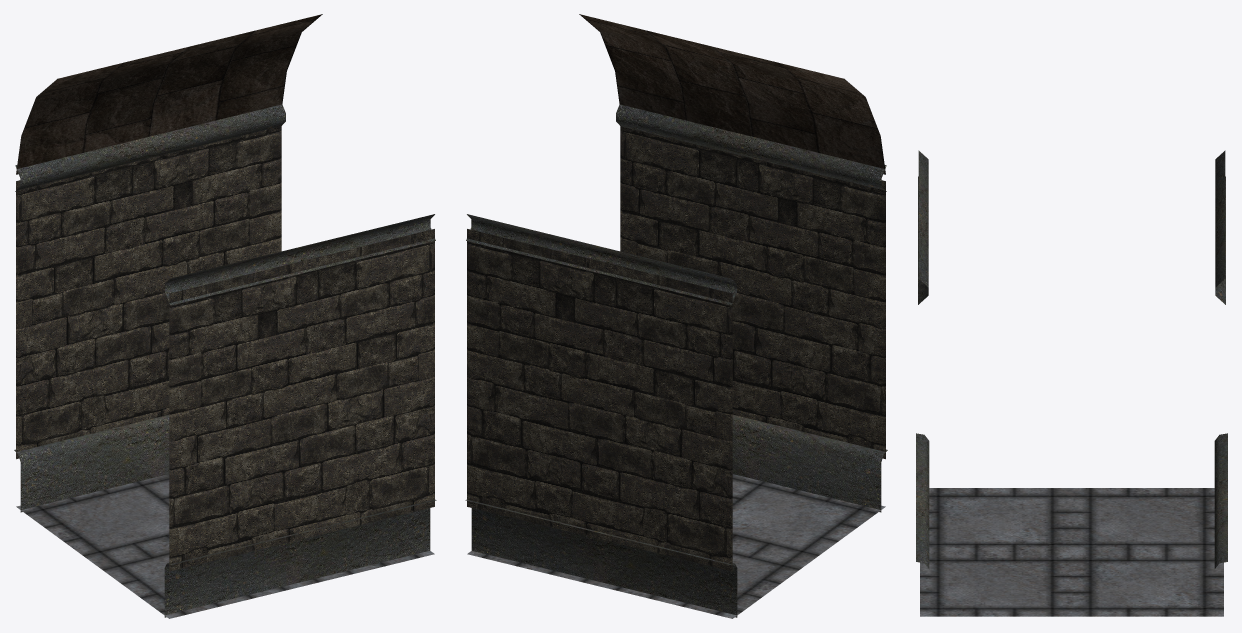
File: HallWay.fbx
The picture shows the model from 3 angles, left to right: view 1: azimuth 30°, elevation 25°; view 2: azimuth 150°, elevation 25°; view 3: azimuth 270°, elevation 25°; orthographic projection.
Parts seen in each view (by area): view 1: Plane_007, Plane_003, Plane_002, Plane, Plane_006, Plane_004, Plane_001, Plane_005; view 2: Plane_003, Plane_007, Plane_002, Plane, Plane_004, Plane_006, Plane_005, Plane_001; view 3: Plane, Plane_006, Plane_004, Plane_005, Plane_001.
Boxes of the visible parts, x1,y1,x2,y2 form: Plane_007: (169, 229, 434, 571); Plane_003: (16, 126, 281, 459); Plane_002: (16, 14, 322, 174); Plane: (16, 474, 434, 618); Plane_006: (164, 499, 436, 617); Plane_004: (14, 415, 169, 512); Plane_001: (15, 104, 285, 191); Plane_005: (165, 214, 435, 305); Plane_003: (467, 229, 732, 571); Plane_007: (620, 126, 885, 459); Plane_002: (579, 14, 885, 174); Plane: (467, 474, 885, 618); Plane_004: (465, 499, 737, 617); Plane_006: (732, 415, 887, 512); Plane_005: (616, 104, 886, 191); Plane_001: (466, 214, 736, 305); Plane: (920, 488, 1223, 616); Plane_006: (916, 433, 929, 568); Plane_004: (1214, 433, 1227, 568); Plane_005: (918, 150, 928, 304); Plane_001: (1215, 150, 1225, 304).
Bounding box in the file's own units: 2 × 3.46 × 2.05.
